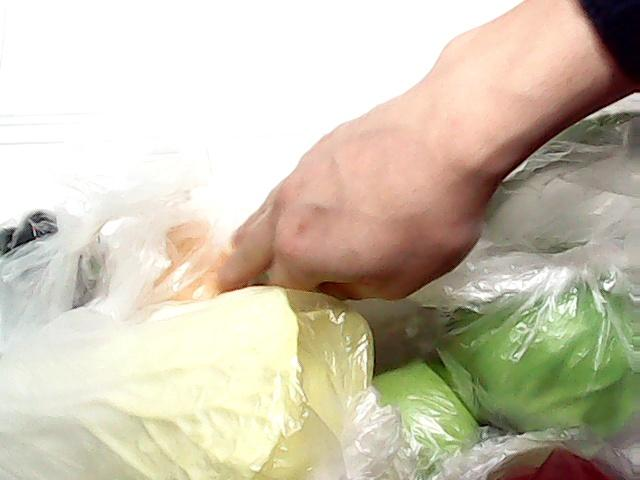apple: (365, 359, 479, 453), (478, 446, 630, 480)
cabbage: (454, 268, 640, 456)
grape: (4, 188, 108, 284)
lemon: (126, 197, 258, 304)
napa cabbage: (0, 284, 360, 480)
pepper: (475, 102, 640, 242)
